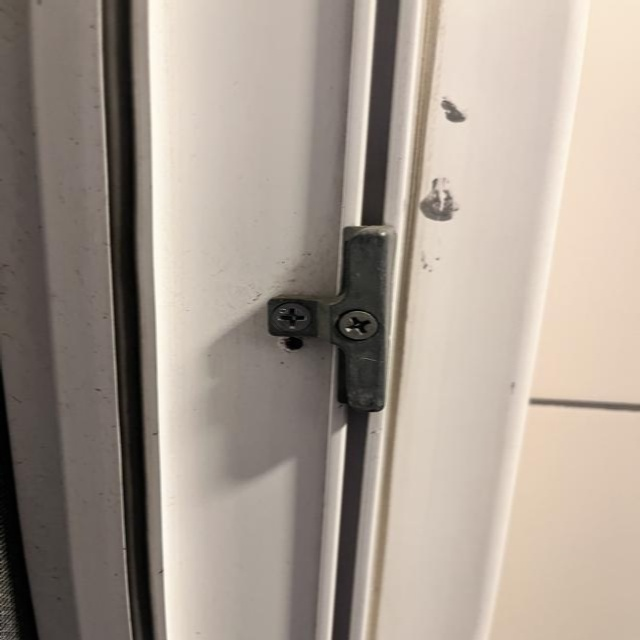phillips: (271, 301, 313, 331), (338, 309, 378, 339)
